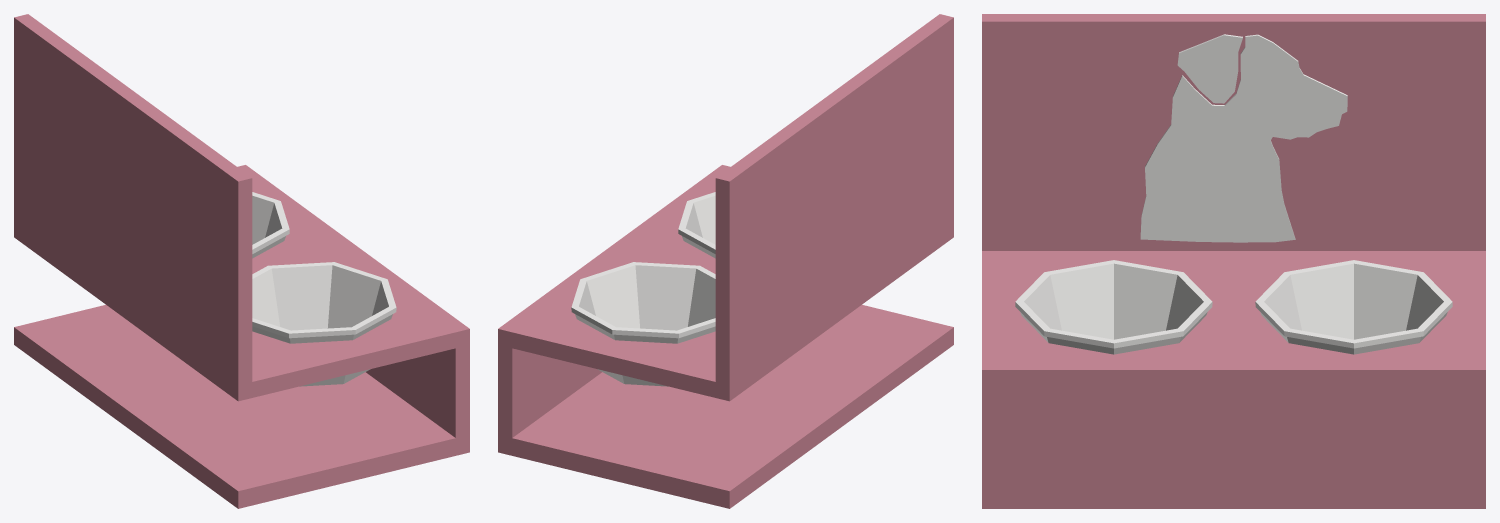
File: food_stand_3.fbx
3 renders of one model, left to right at view 1: azimuth 30°, elevation 25°; view 2: azimuth 150°, elevation 25°; view 3: azimuth 270°, elevation 25°, orthographic. The views are drawn at different scales.
Parts seen in each view (by area): view 1: food_stand_3; view 2: food_stand_3; view 3: food_stand_3.
Boxes of the visible parts, x1,y1,x2,y2 form: food_stand_3: (14, 14, 469, 508); food_stand_3: (498, 14, 953, 508); food_stand_3: (982, 14, 1485, 508).
Size of the model in its own units: 34.03 by 57.02 by 45.94.
